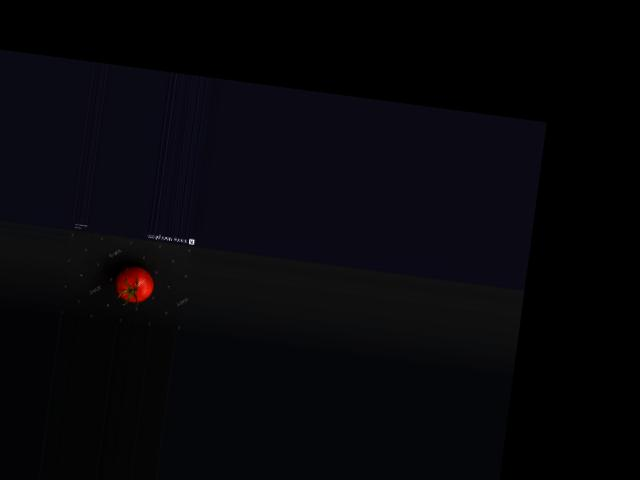tomato: (112, 264, 155, 304)
